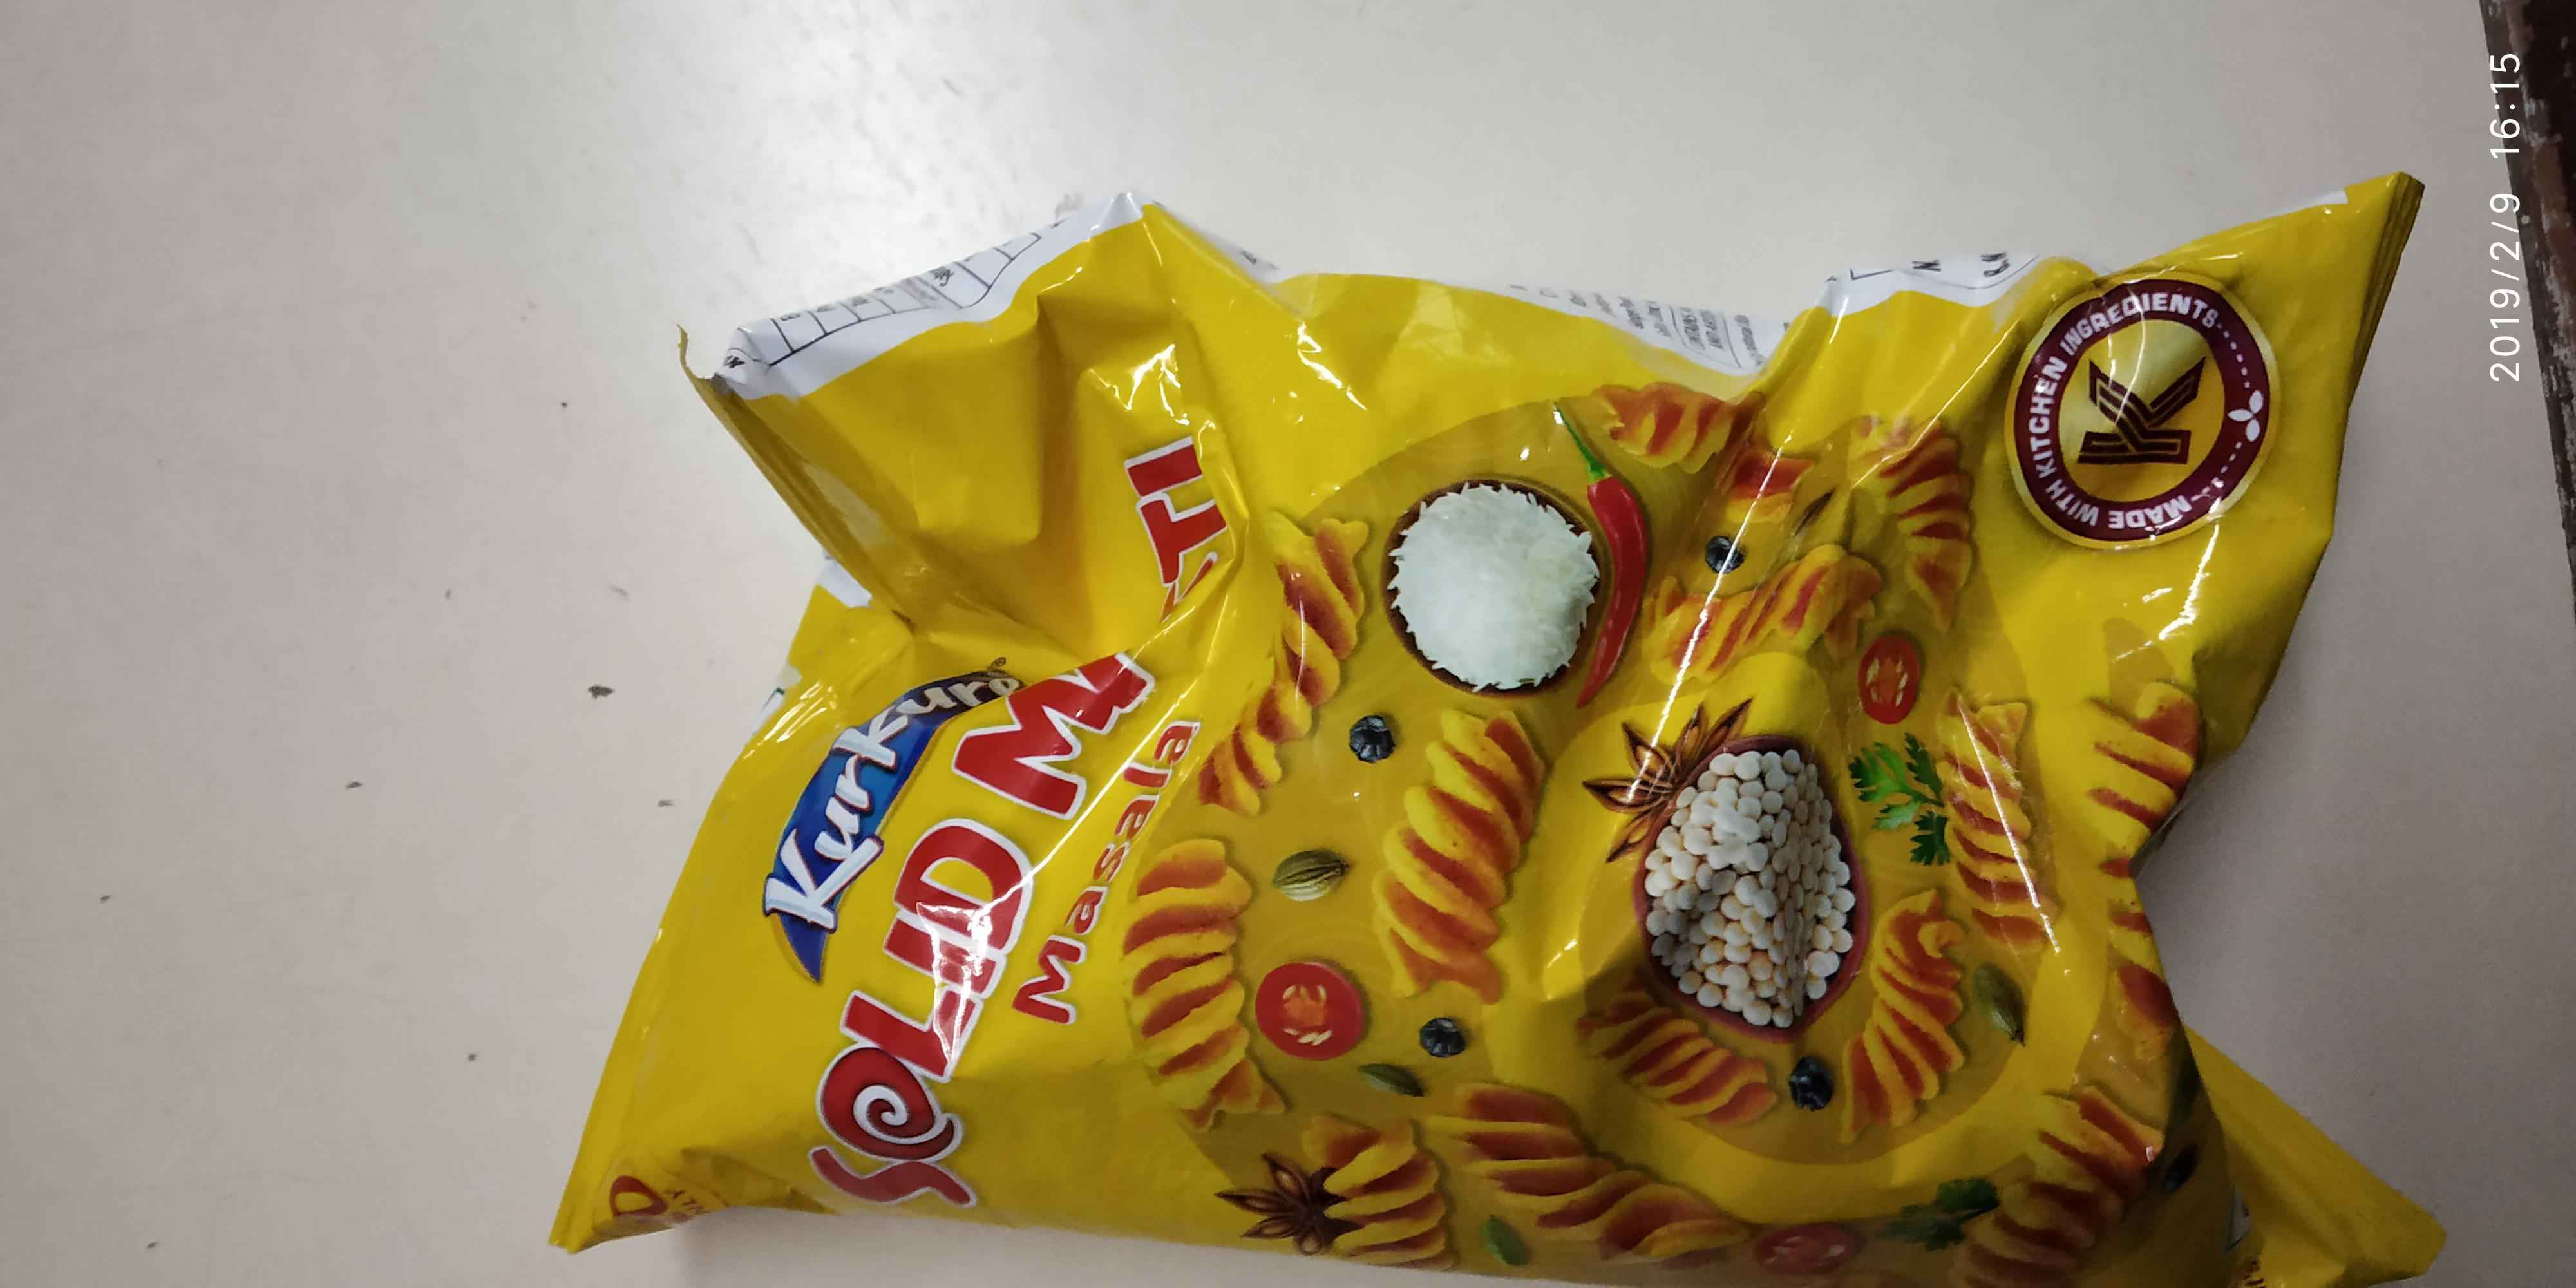kurkure: (749, 628, 1023, 968)
